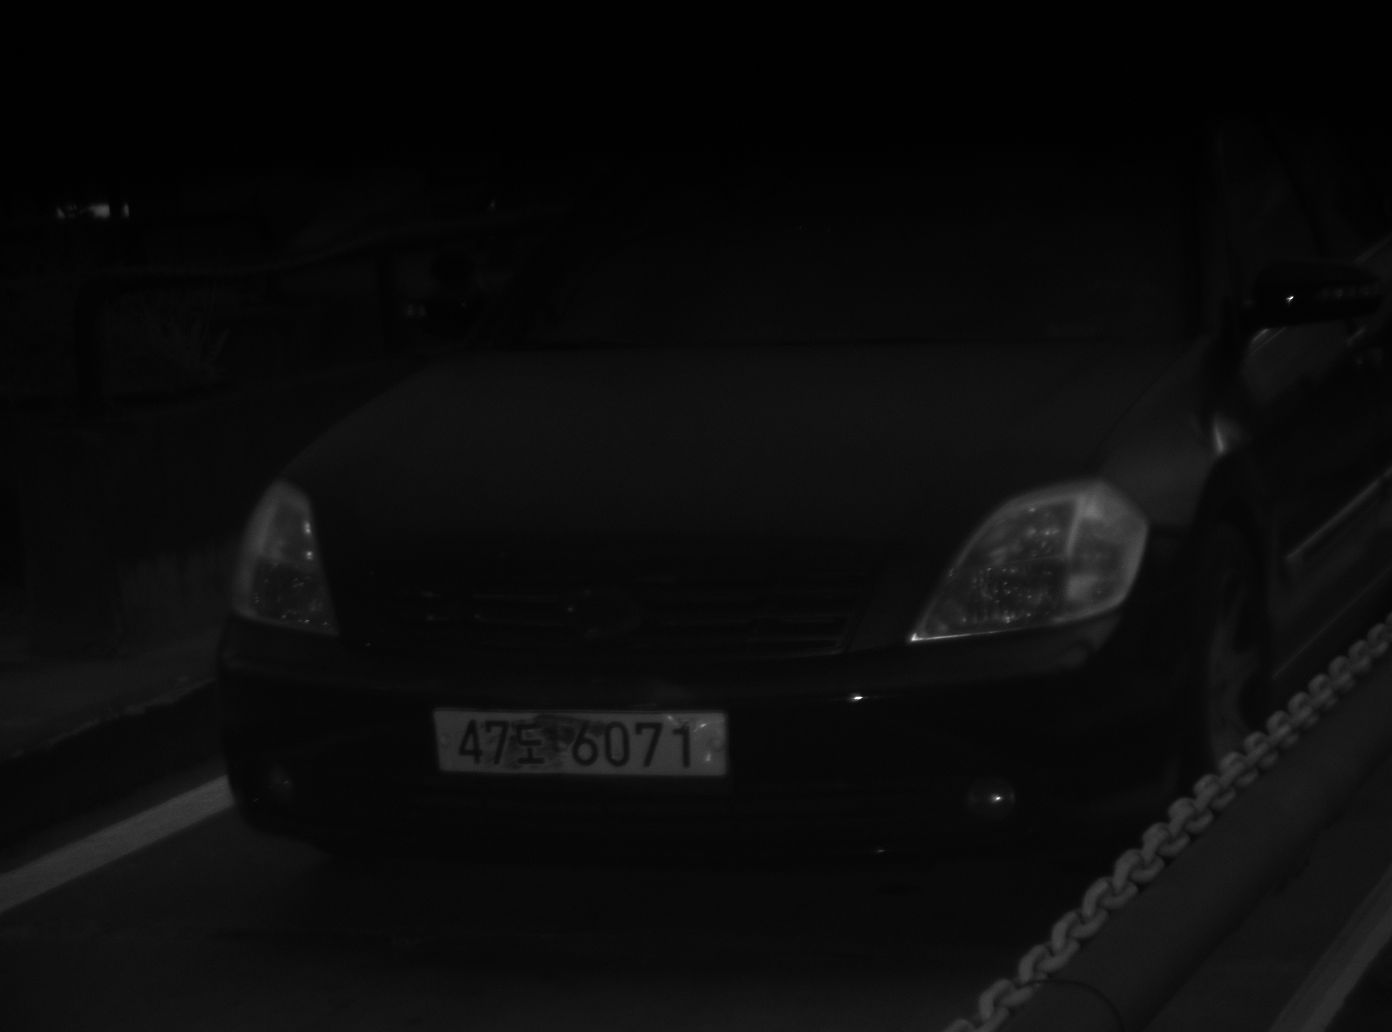car: (207, 184, 1392, 861)
plate: (426, 704, 732, 780)
